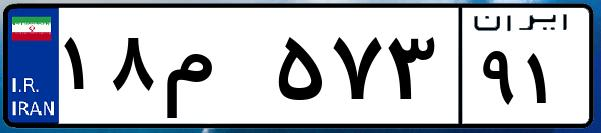1: (57, 26, 110, 100), (525, 38, 570, 115)
3: (385, 28, 445, 110)
5: (270, 28, 330, 110)
7: (330, 28, 385, 110)
8: (110, 28, 158, 98)
9: (475, 38, 525, 113)
م: (158, 20, 270, 120)
